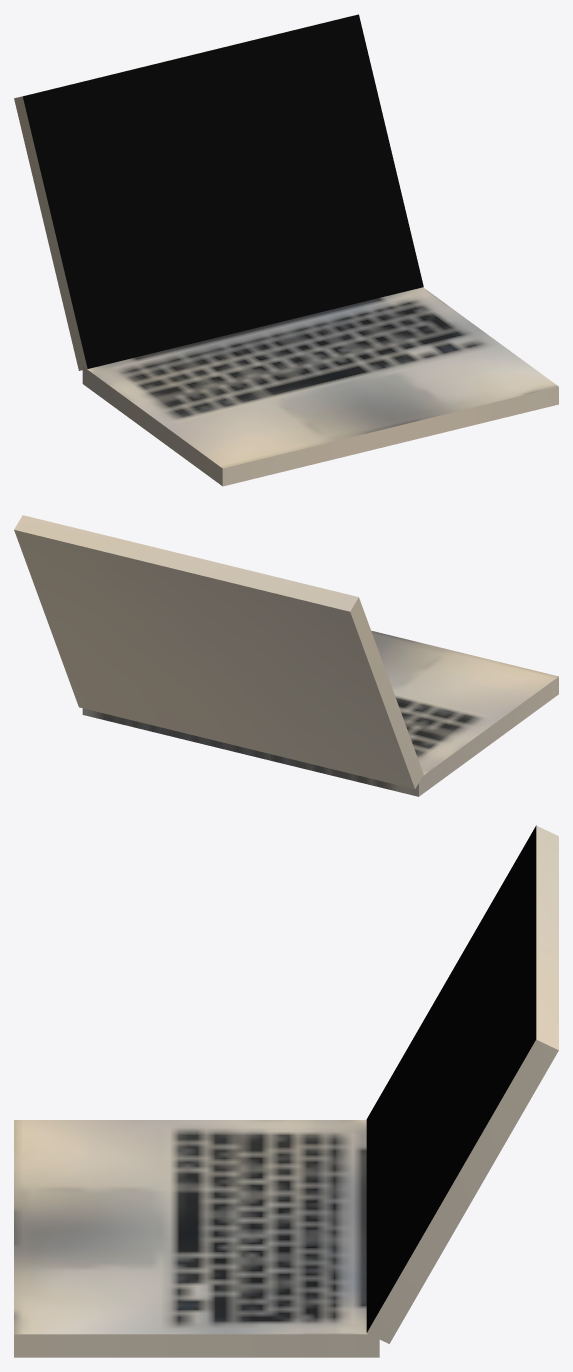
File: laptop_off.fbx
3 views of the same model, one above another, from view 1: azimuth 30°, elevation 25°; view 2: azimuth 150°, elevation 25°; view 3: azimuth 270°, elevation 25° (orthographic). The views are drawn at different scales.
Visible parts, largest first — view 1: TopOff, Cube; view 2: TopOff, Cube; view 3: Cube, TopOff.
Boxes of the visible parts, box(x1,y1,x2,y2) form: TopOff: box(14, 14, 423, 370); Cube: box(82, 287, 558, 486); TopOff: box(14, 515, 423, 789); Cube: box(82, 630, 558, 796); Cube: box(14, 1120, 379, 1357); TopOff: box(366, 825, 558, 1343).
Size of the model in its own units: 427 by 296 by 459.
1 material, 1 textured.
